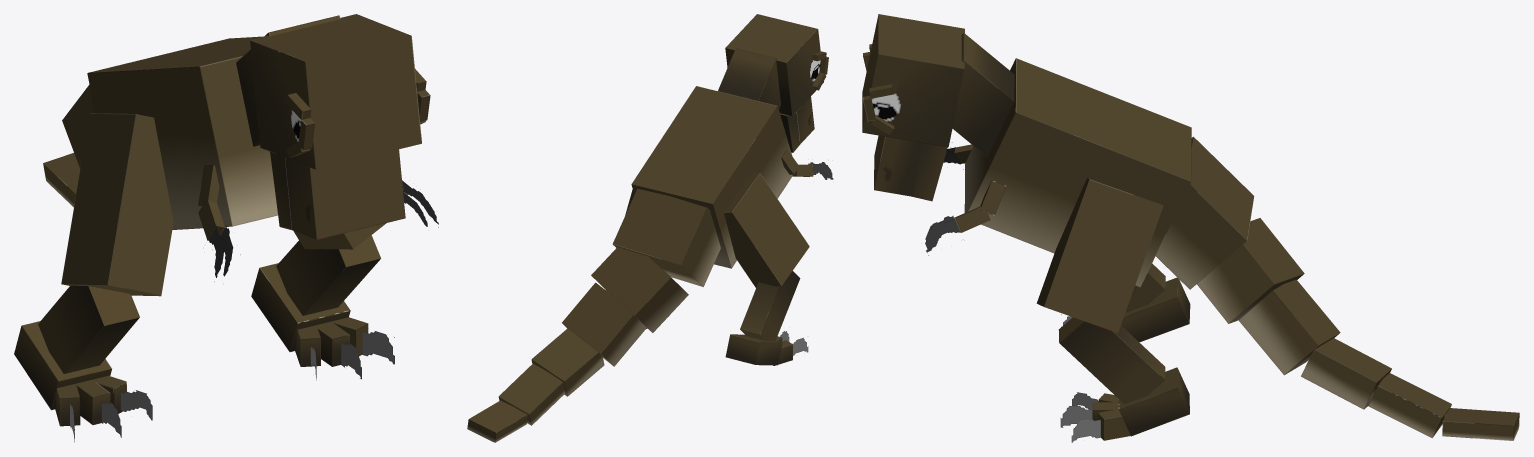
The model's file is animateddinosaur32.obj.
3 renders of one model, left to right at view 1: azimuth 30°, elevation 25°; view 2: azimuth 150°, elevation 25°; view 3: azimuth 270°, elevation 25°, orthographic. The views are drawn at different scales.
Parts seen in each view (by area): view 1: Object_64, Object_6, Object_9, Object_56, Object_12, Object_34, Object_37, Object_15, Object_53, Object_92, Object_107, Object_31 (+16 smaller); view 2: Object_6, Object_92, Object_9, Object_64, Object_95, Object_98, Object_101, Object_53, Object_12, Object_104, Object_107, Object_15 (+2 smaller); view 3: Object_6, Object_31, Object_64, Object_92, Object_95, Object_98, Object_34, Object_53, Object_101, Object_104, Object_37, Object_15 (+5 smaller).
Boxes of the visible parts, box(x1,y1,x2,y2) form: Object_64: box(250, 14, 421, 169); Object_6: box(87, 36, 277, 229); Object_9: box(61, 113, 173, 296); Object_56: box(285, 149, 405, 239); Object_12: box(38, 285, 139, 373); Object_34: box(276, 235, 380, 315); Object_37: box(251, 263, 350, 351); Object_15: box(14, 321, 111, 410); Object_53: box(236, 15, 340, 146); Object_92: box(62, 84, 95, 168); Object_107: box(43, 153, 80, 207); Object_31: box(293, 223, 386, 249); Object_6: box(631, 86, 792, 268); Object_92: box(612, 189, 720, 286); Object_9: box(724, 173, 809, 287); Object_64: box(725, 14, 823, 115); Object_95: box(591, 247, 688, 332); Object_98: box(562, 282, 646, 366); Object_101: box(531, 328, 604, 396); Object_53: box(718, 48, 780, 109); Object_12: box(740, 271, 800, 341); Object_104: box(498, 363, 564, 425); Object_107: box(467, 400, 527, 442); Object_15: box(725, 334, 782, 365); Object_6: box(964, 58, 1191, 287); Object_31: box(1036, 178, 1163, 332); Object_64: box(862, 14, 964, 147); Object_92: box(1156, 136, 1254, 289); Object_95: box(1197, 218, 1304, 323); Object_98: box(1238, 279, 1340, 375); Object_34: box(1058, 317, 1165, 404); Object_53: box(952, 33, 1014, 157); Object_101: box(1301, 338, 1391, 409); Object_104: box(1368, 373, 1451, 438); Object_37: box(1118, 367, 1189, 436); Object_15: box(1121, 277, 1190, 342).
Bounding box in the file's own units: 2.26 × 3.1 × 5.15.
